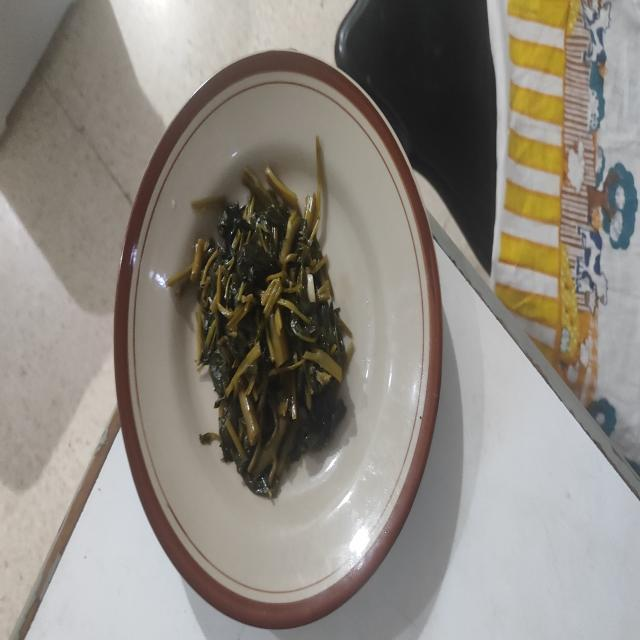tumis_kangkung: (171, 138, 354, 496)
